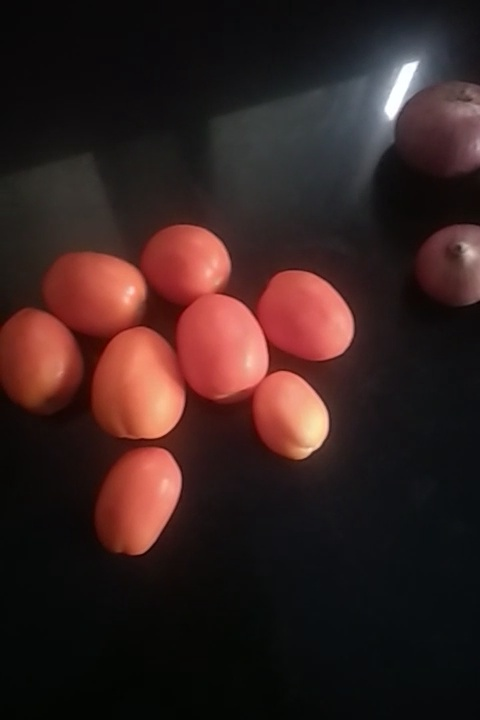onion: (389, 72, 480, 171), (419, 222, 480, 306)
tomato: (84, 448, 190, 559), (3, 306, 87, 430), (257, 267, 369, 358), (92, 329, 185, 438), (175, 293, 268, 400), (43, 254, 151, 332), (254, 374, 337, 456), (144, 221, 232, 289)
